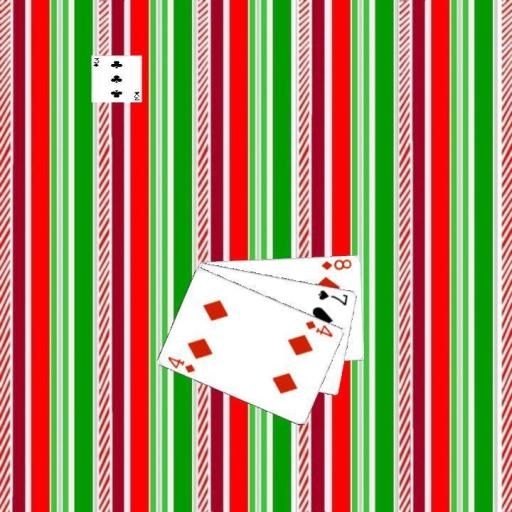card-corner: (302, 317, 334, 339), (315, 286, 350, 306), (165, 353, 197, 374), (318, 256, 354, 272)
